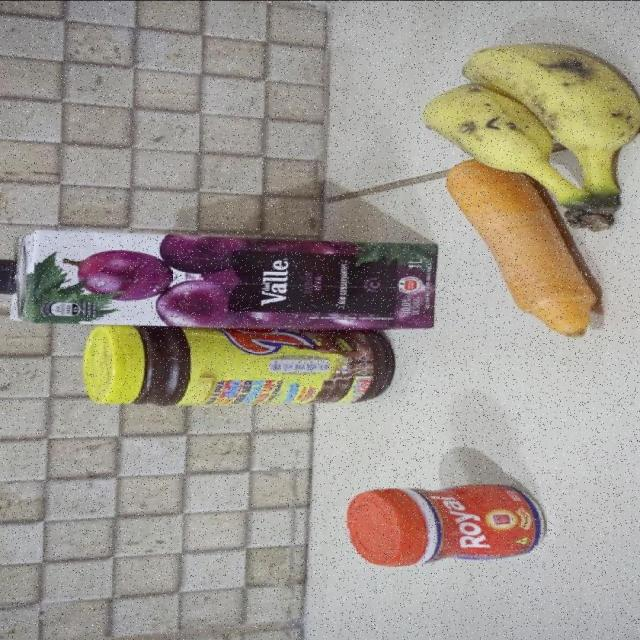Banana: (423, 42, 640, 231)
Carrot: (445, 159, 596, 338)
ChocolatePowder: (84, 327, 394, 406)
Yeast: (344, 482, 548, 566)
